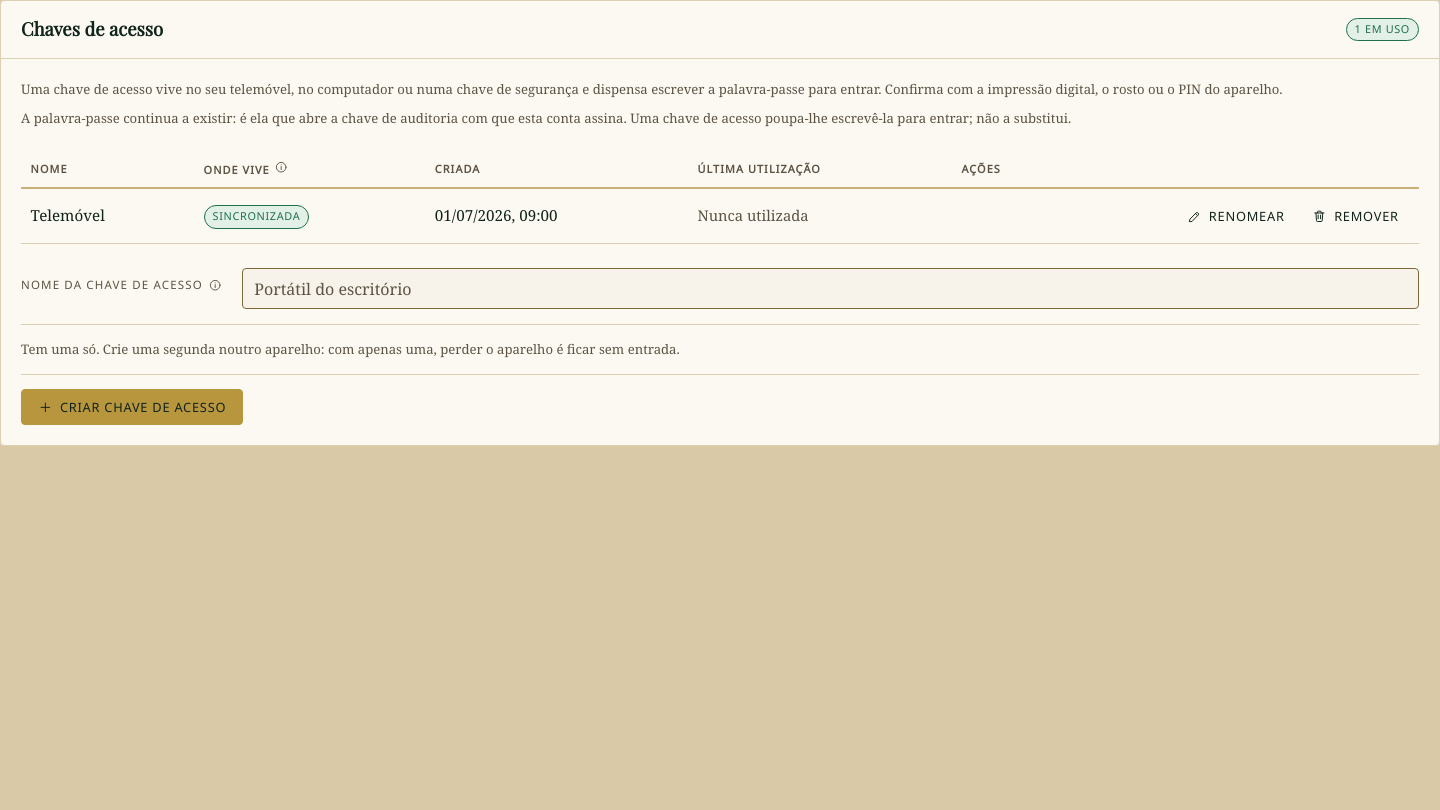
it: PasskeySection › opens the revoke dialog with the step-up field the server demands
What coordinates should you click on to do the following:
click the button "Remover"
I would click on:
 (1356, 216)
Its box is top-left (1302, 198), bottom-right (1409, 234).
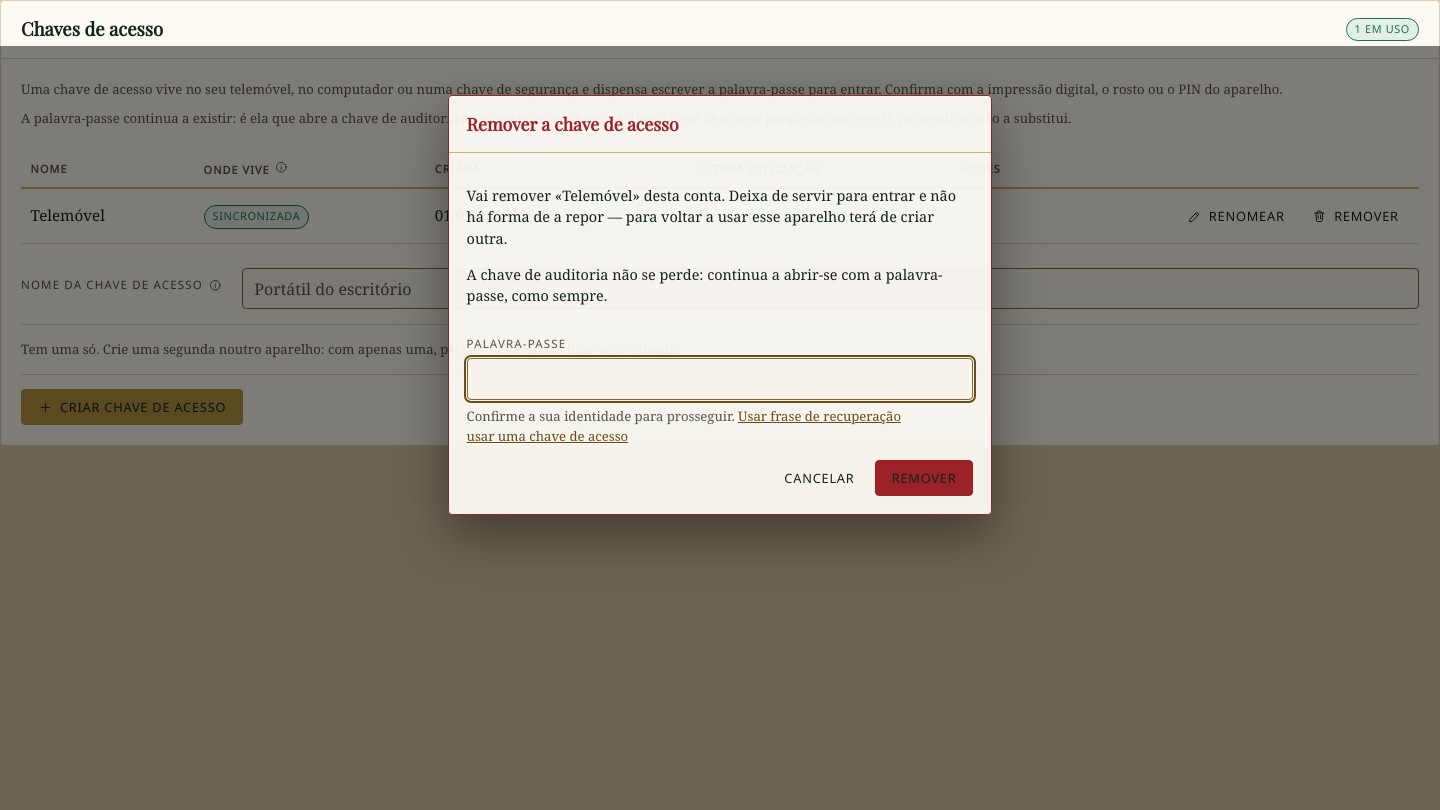
Expected: the dialog shows "Telemóvel", top-left (467, 186), bottom-right (956, 248)
Expected: the password field labelled "Palavra-passe" is shown, top-left (467, 358), bottom-right (973, 400)
